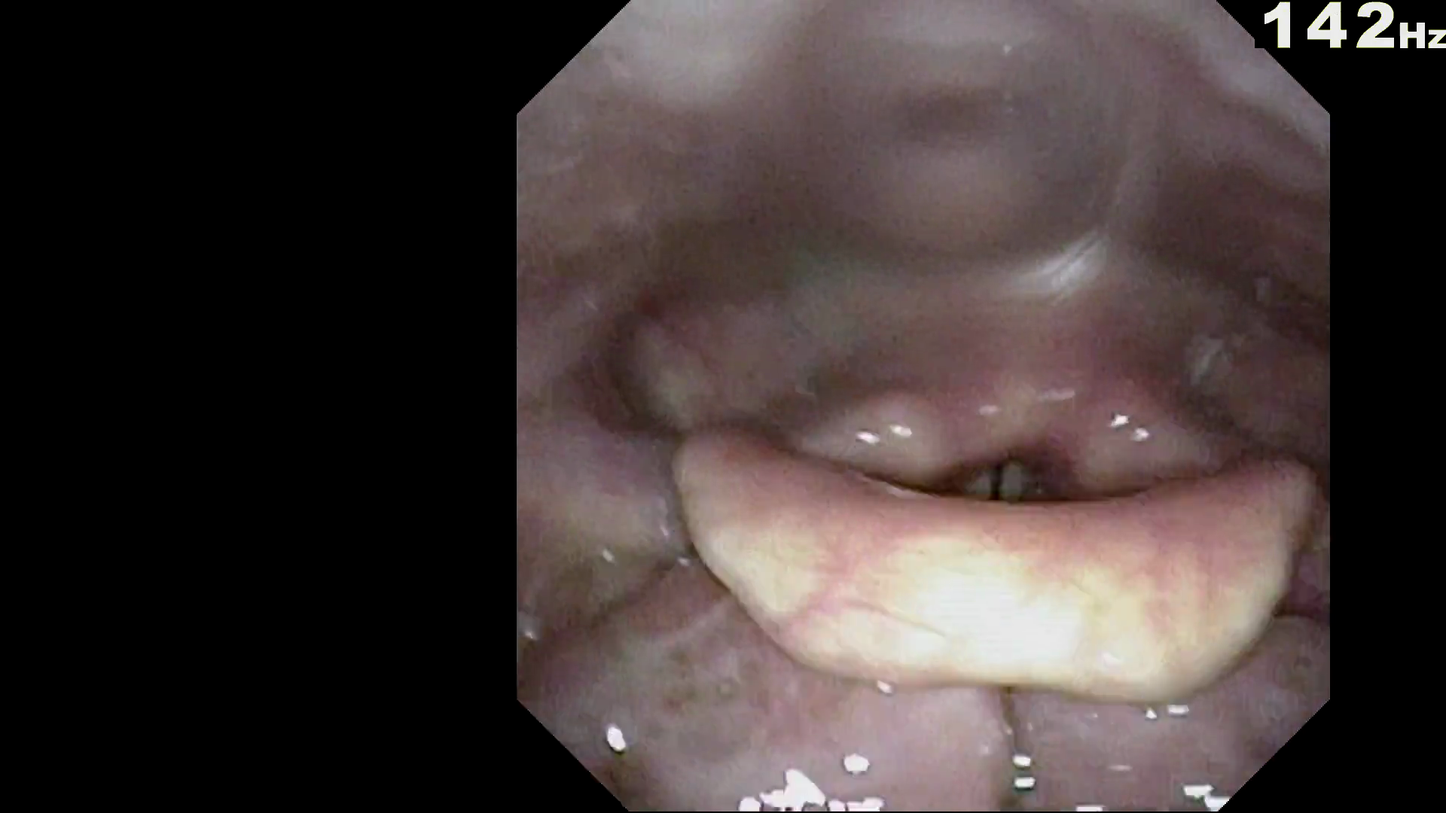epiglottis: (668, 419, 1284, 644)
